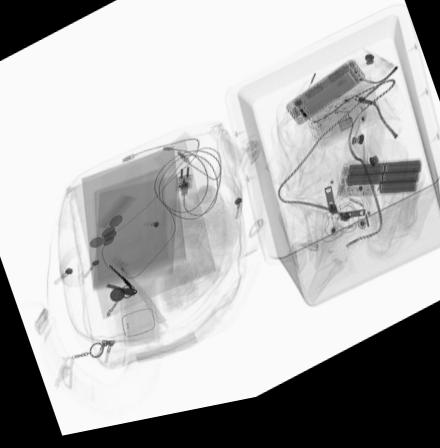Powerbank: (333, 175, 422, 209)
